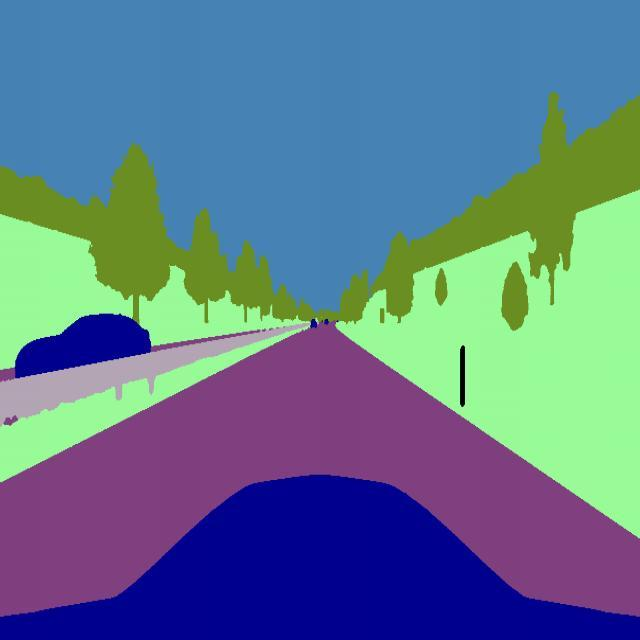safe: (10, 306, 154, 384), (307, 316, 318, 334), (322, 314, 330, 330)
